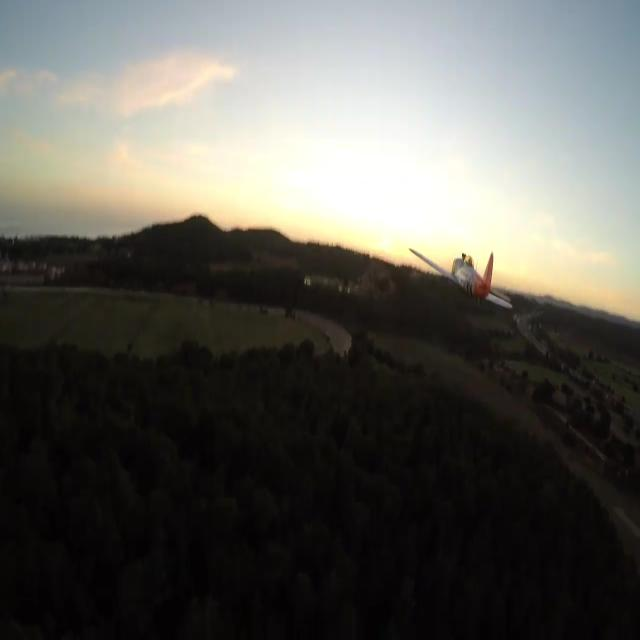iha: (440, 276, 482, 280)
